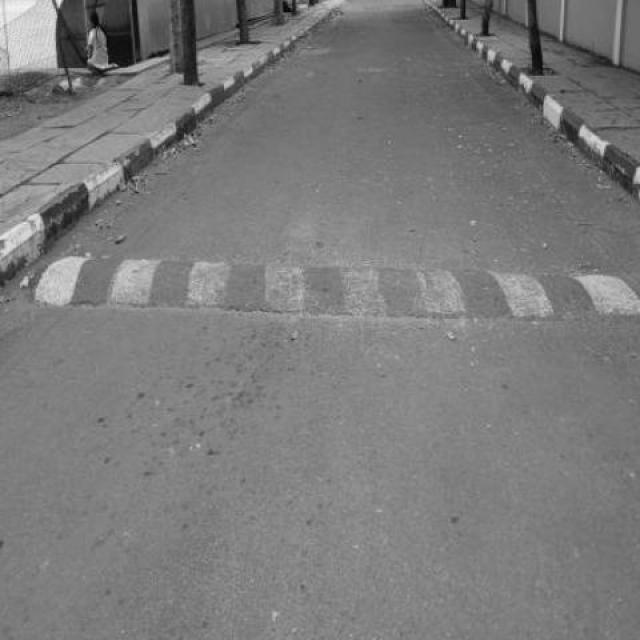Speed Bump: (24, 252, 639, 315)
